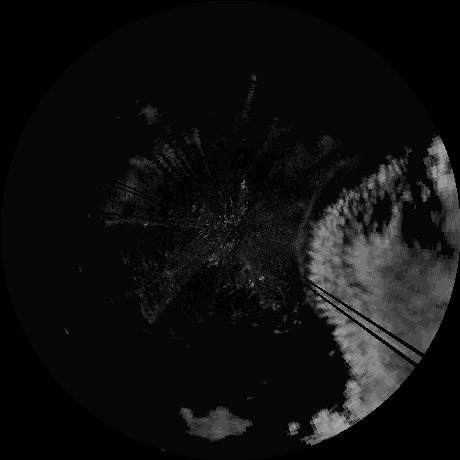frontgust: (293, 201, 313, 288)
